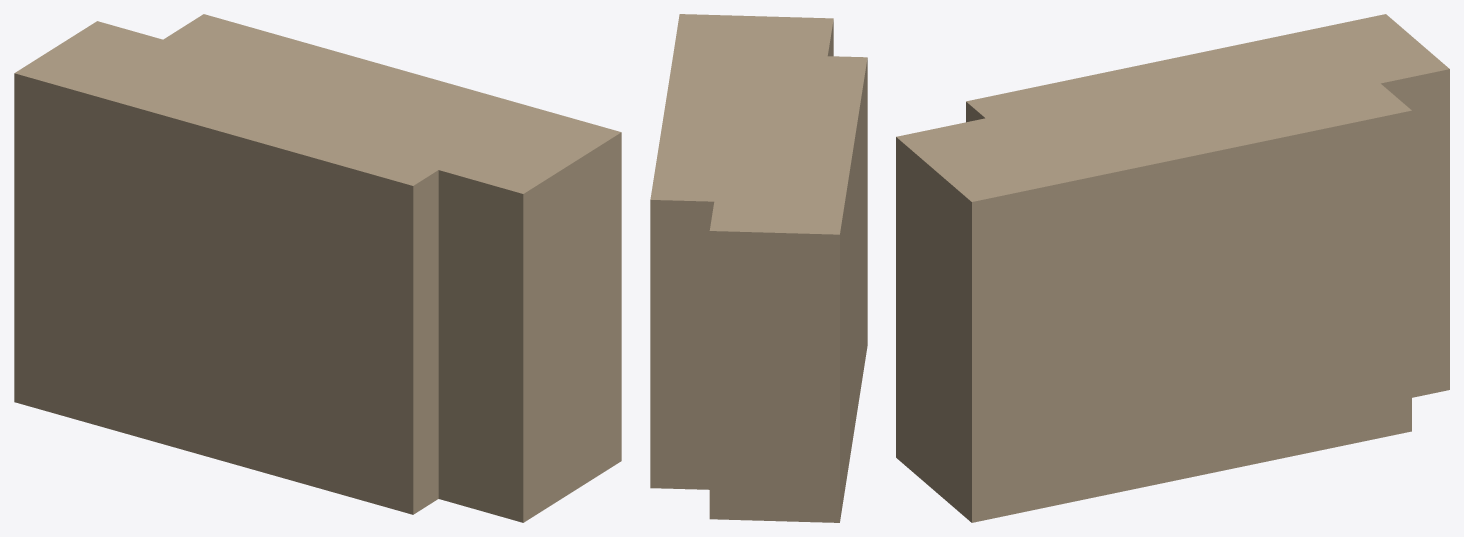
The model's file is bld_106415127.dae.
3 views of the same model, side by side, from view 1: azimuth 30°, elevation 25°; view 2: azimuth 150°, elevation 25°; view 3: azimuth 270°, elevation 25° (orthographic). The views are drawn at different scales.
Visible parts, largest first — view 1: bld_106415127; view 2: bld_106415127; view 3: bld_106415127.
Part boxes in pixels (bbox=[...]): bld_106415127: bbox=[14, 14, 621, 522]; bld_106415127: bbox=[650, 14, 867, 522]; bld_106415127: bbox=[896, 14, 1449, 522].
Size of the model in its own units: 10.06 by 12.51 by 8.
